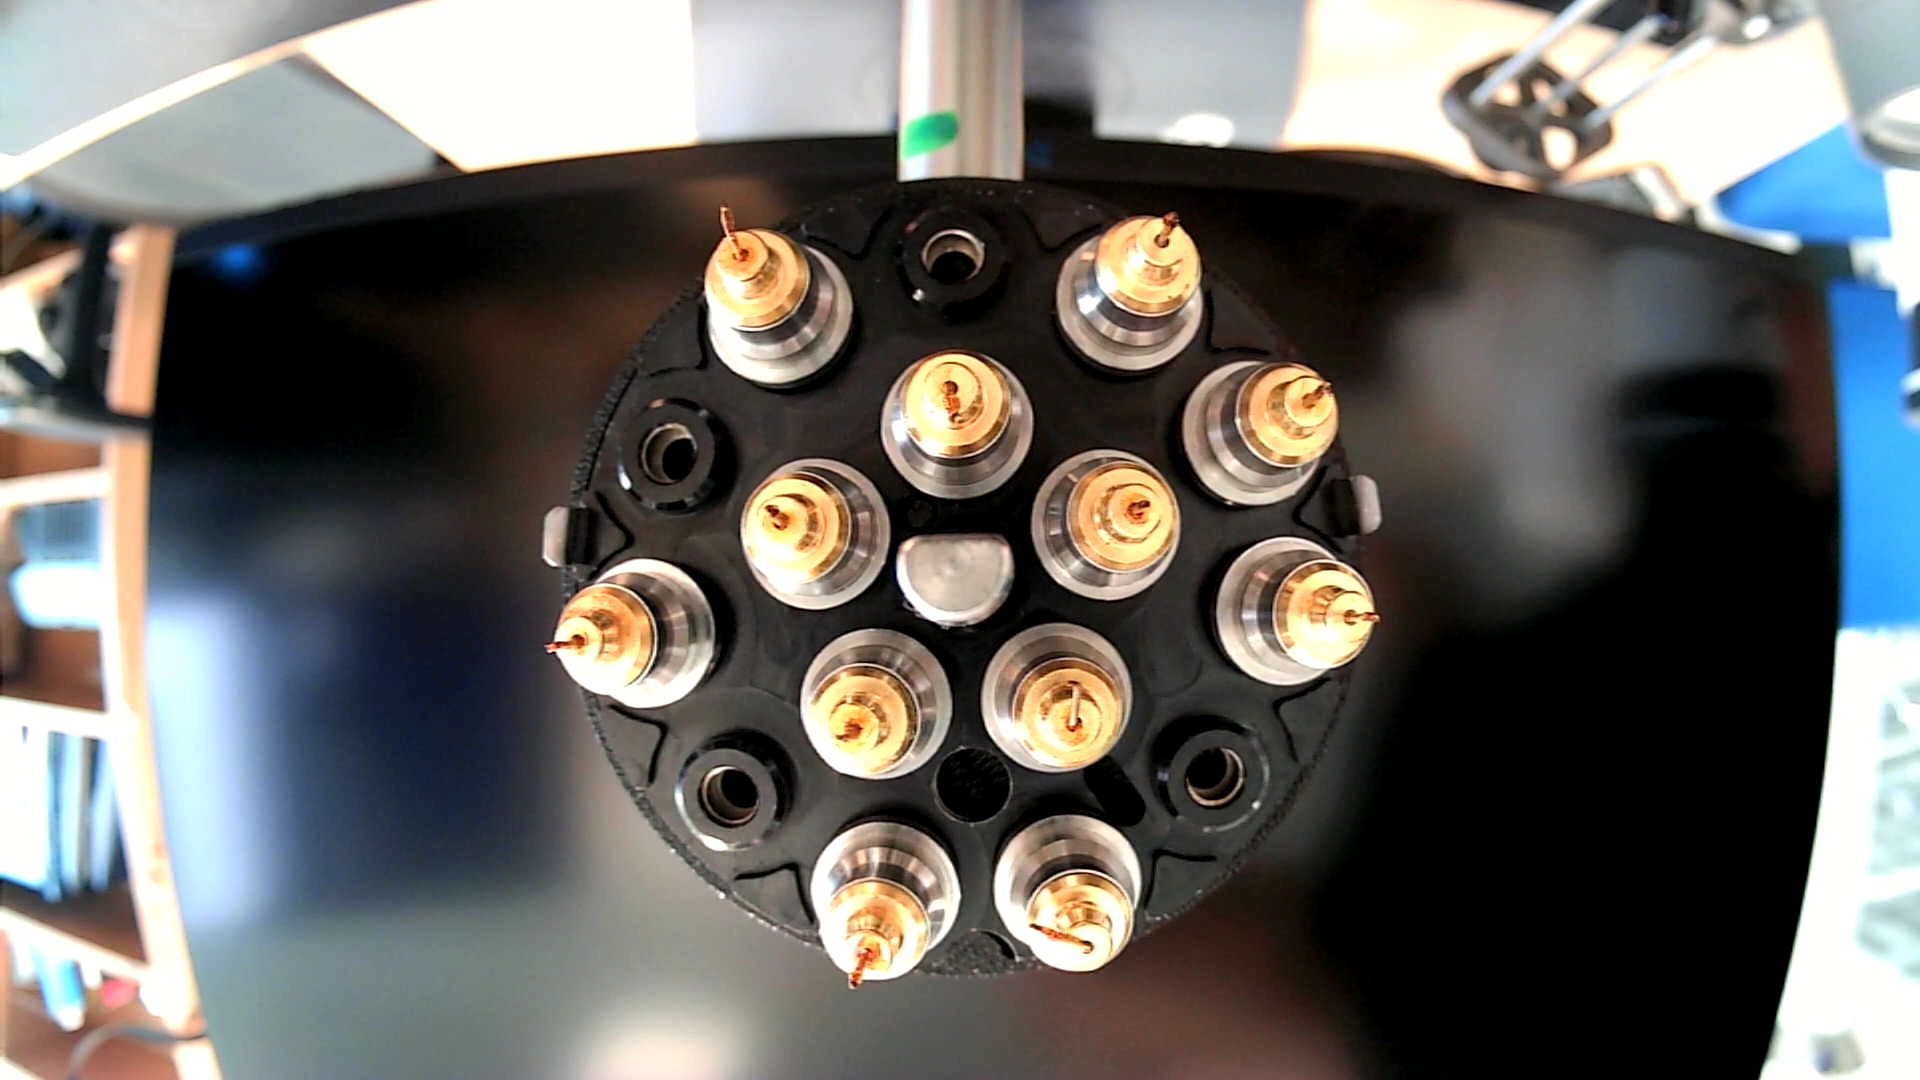bent: (988, 811, 1147, 981), (978, 617, 1137, 781), (876, 345, 1036, 505)
empty: (665, 725, 802, 862), (607, 392, 740, 520), (1142, 712, 1275, 840), (885, 200, 1021, 320)
hole: (931, 742, 1013, 828)
pin: (700, 199, 857, 392), (541, 554, 725, 712), (807, 814, 963, 992), (1205, 534, 1377, 691), (1055, 208, 1207, 380), (796, 625, 956, 782), (1029, 446, 1183, 605), (1178, 359, 1337, 513), (738, 455, 894, 611)
rod: (895, 529, 1021, 626)
